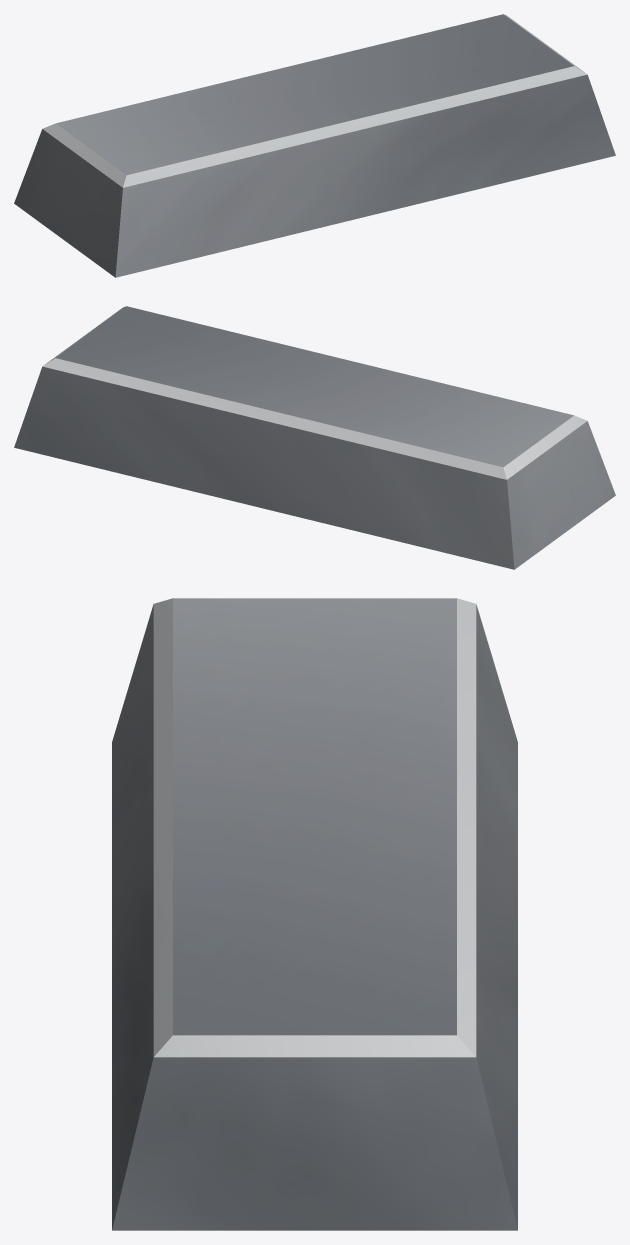
Rendered from iron.fbx.
3 views of the same model, one above another, from view 1: azimuth 30°, elevation 25°; view 2: azimuth 150°, elevation 25°; view 3: azimuth 270°, elevation 25° (orthographic). The views are drawn at different scales.
Visible parts, largest first — view 1: iron; view 2: iron; view 3: iron.
Boxes of the visible parts, <box> form: iron: <box>14,14,615,277</box>; iron: <box>14,306,615,569</box>; iron: <box>112,598,517,1230</box>.
Bounding box in the file's own units: 0.6784 × 0.1099 × 0.2383.
